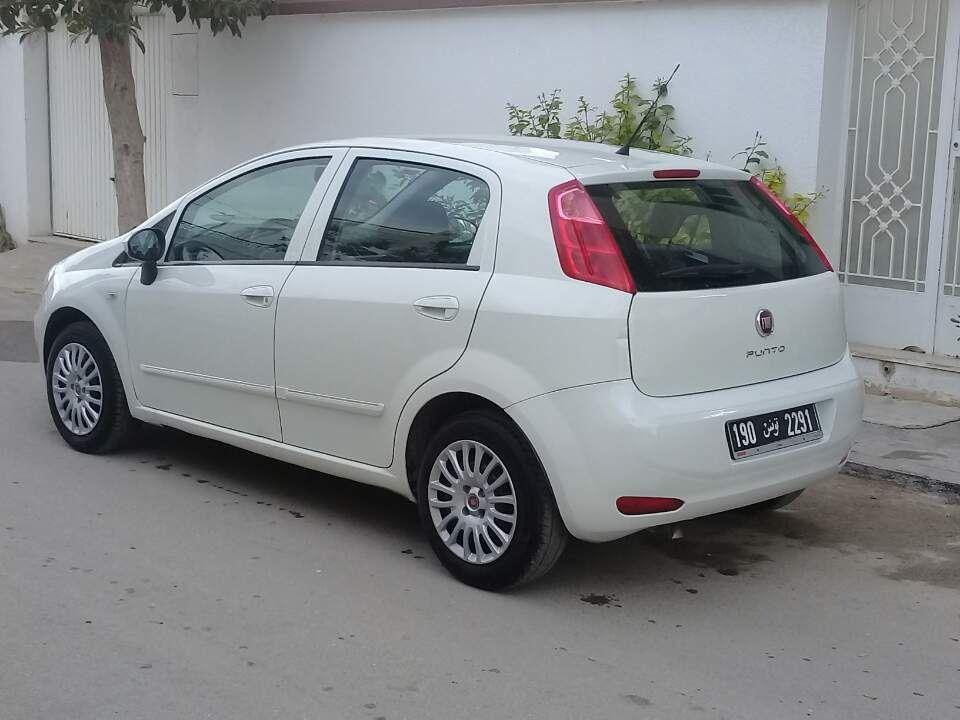LP: (726, 402, 823, 449)
